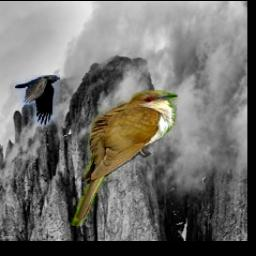Crow: (15, 76, 60, 126)
Cuckoo: (71, 91, 178, 227)
